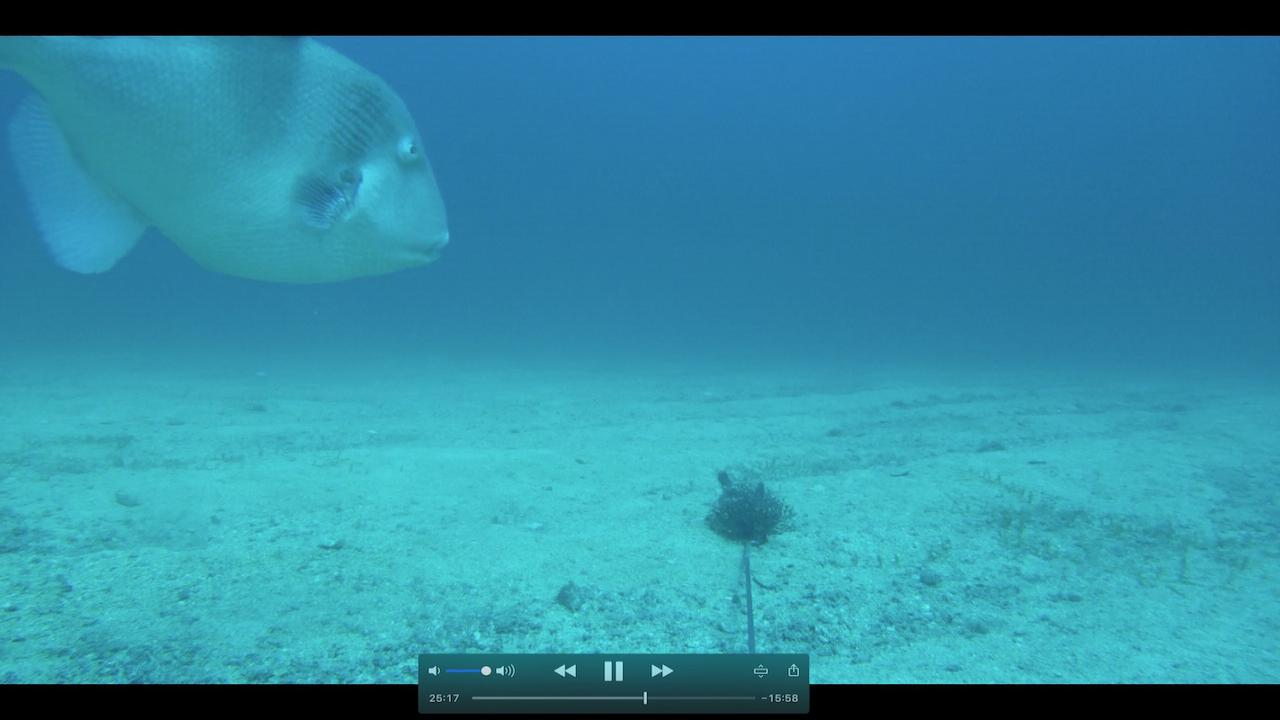balistes: (13, 35, 458, 288)
